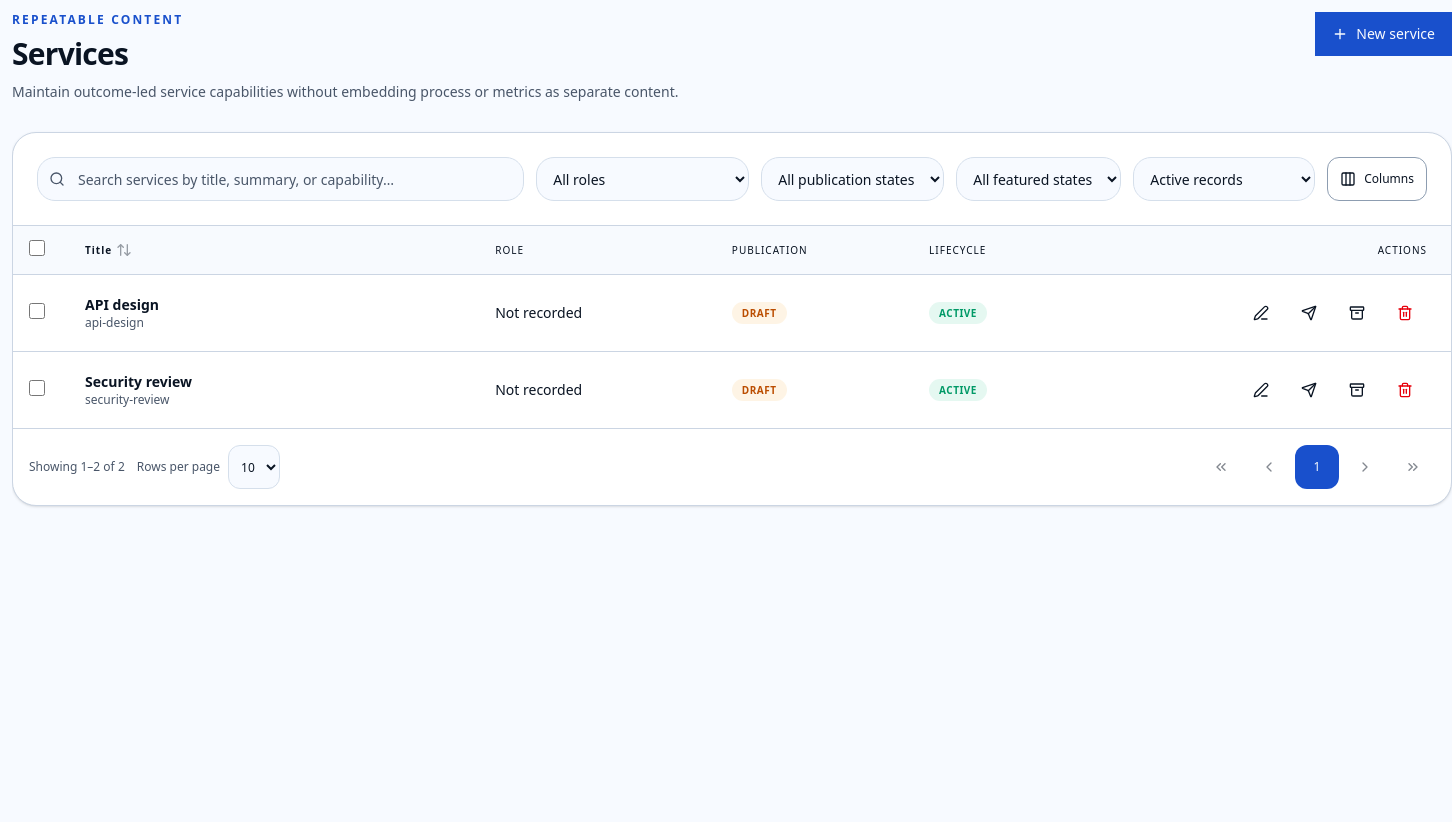
it: repeatable admin workspace interactions › reports bulk partial failures and keeps failed records reviewable
expect the text "API design" is shown: met, box [85,295,159,314]
What coordinates should you click on to do the following:
click the checkbox named "Select all selectable rows on this page"
I would click on:
 (37, 248)
Its box is [29,240,45,256].
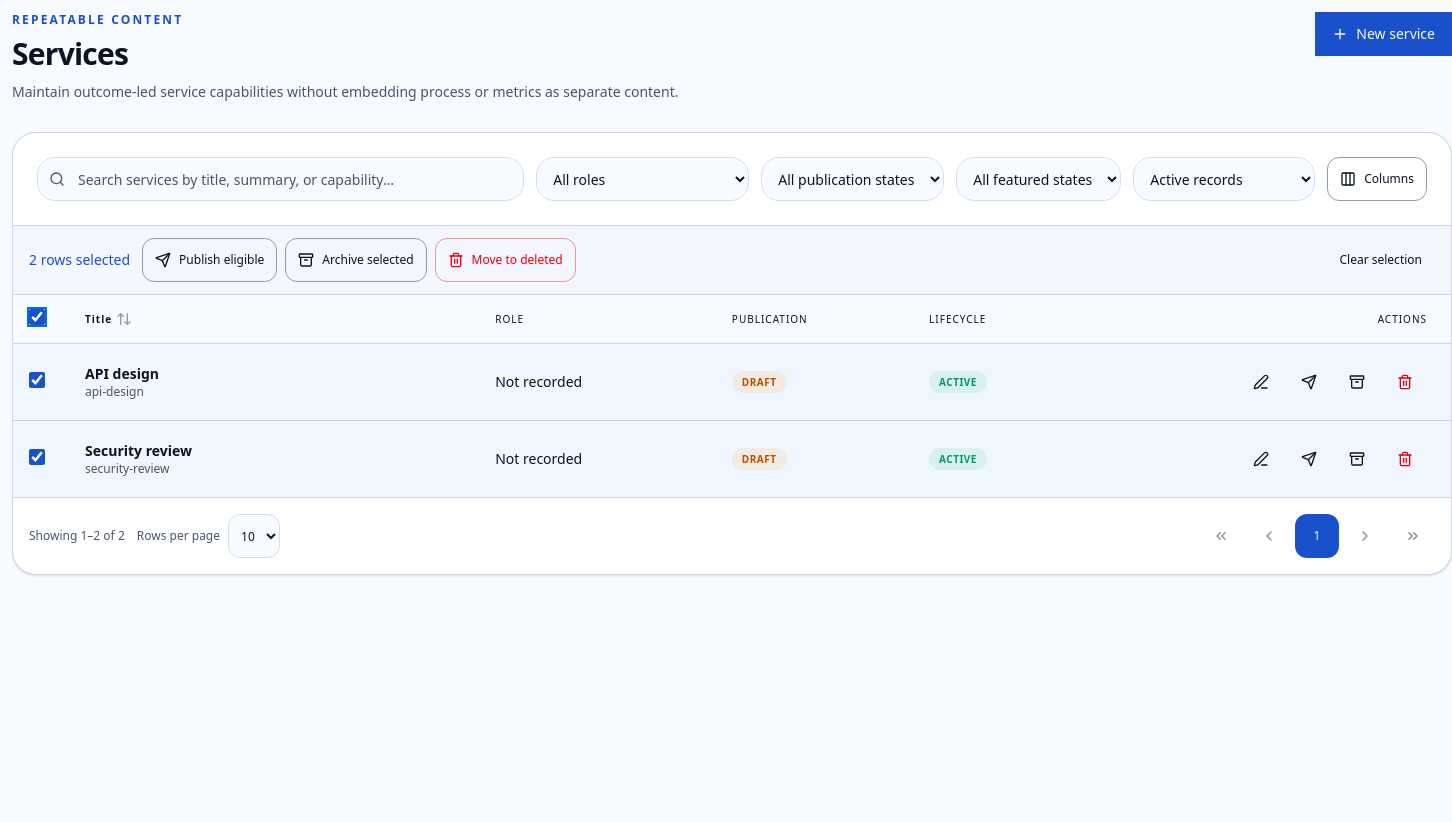
What coordinates should you click on to do the following:
click the button "Archive selected"
I would click on:
 (356, 260)
Its box is [285,238,427,282].
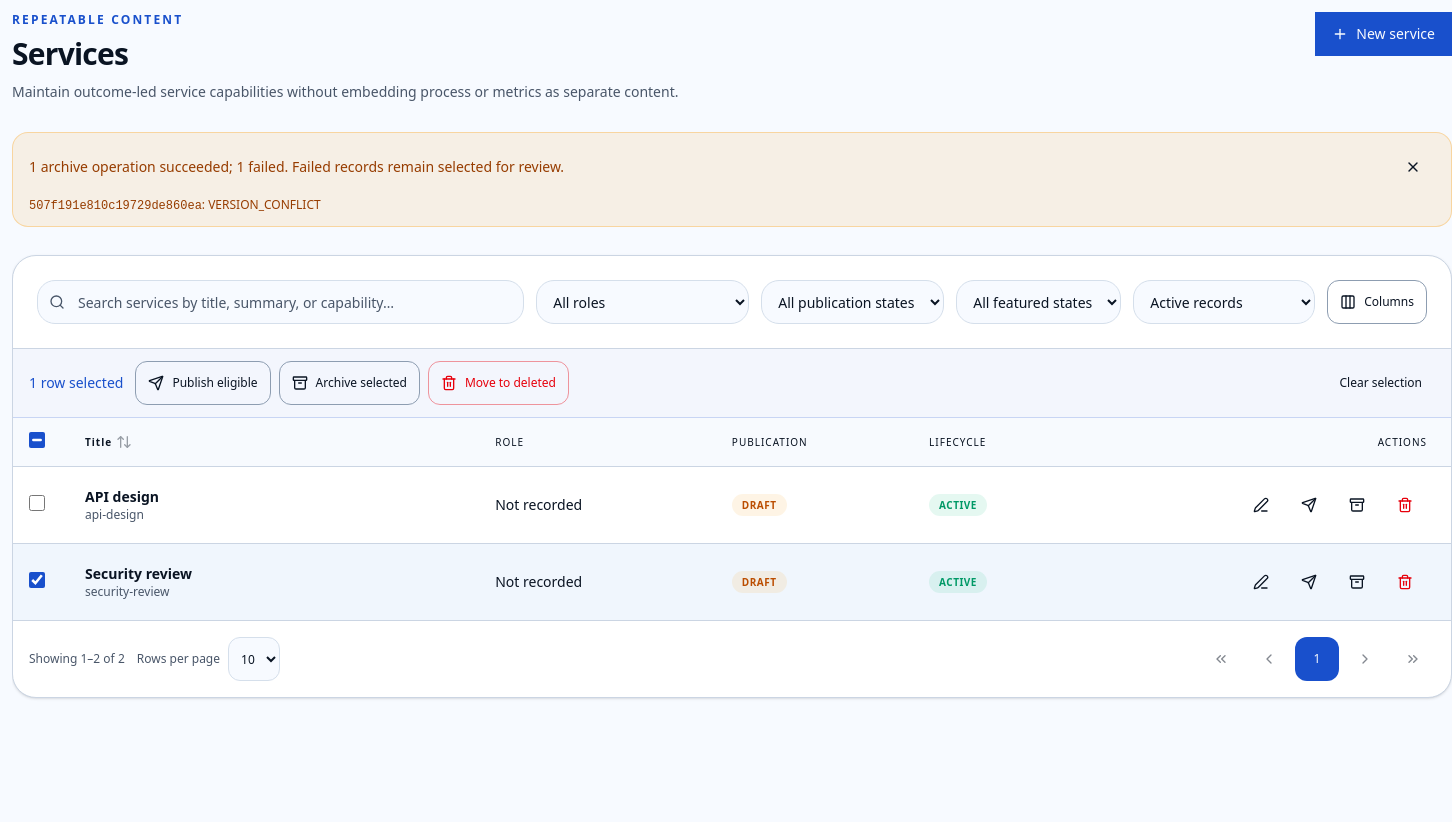
expect the text "1 archive operation succeeded; 1 failed" is shown: met, box [29,157,564,176]
expect the list item "507f191e810c19729de860ea: VERSION_CONFLICT" is shown: met, box [29,196,321,213]
expect the text "1 row selected" is shown: met, box [29,373,123,393]
